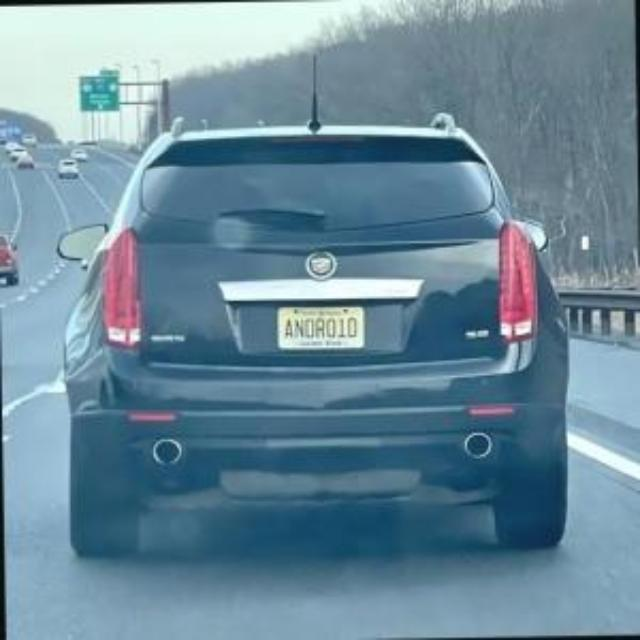License Plate: (277, 304, 364, 348)
